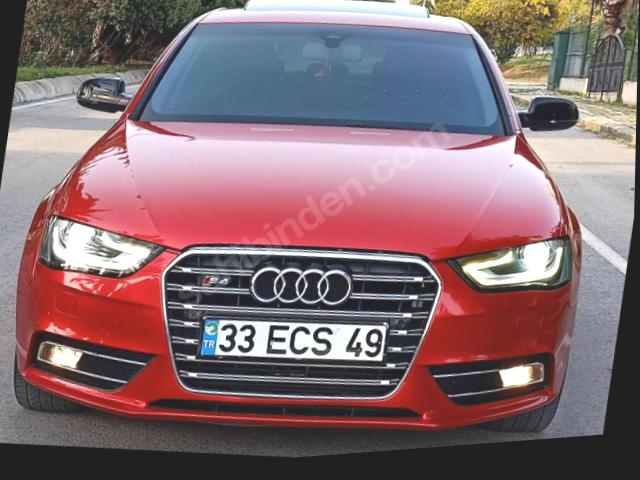plaka: (201, 317, 387, 362)
